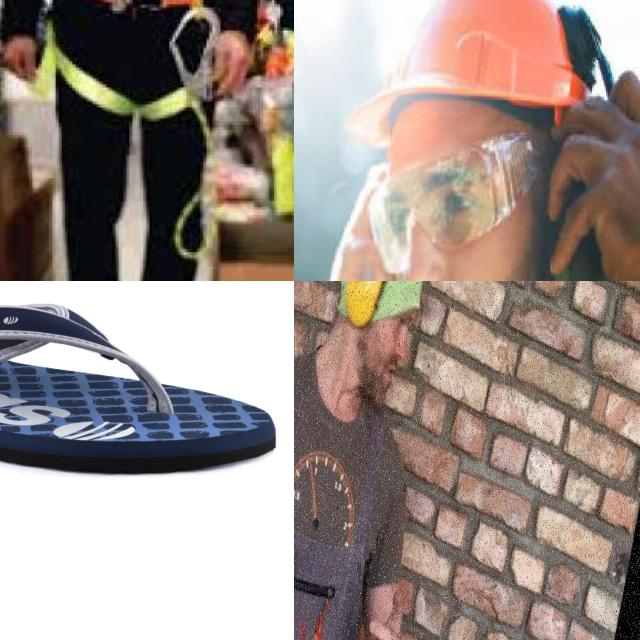Ear-protection: (325, 11, 613, 281), (344, 281, 386, 330)
Harness: (45, 0, 233, 120)
Sandals: (0, 301, 280, 477)
glasses: (343, 120, 552, 281)
head_helmet: (349, 0, 595, 112)
person: (294, 0, 640, 281)
